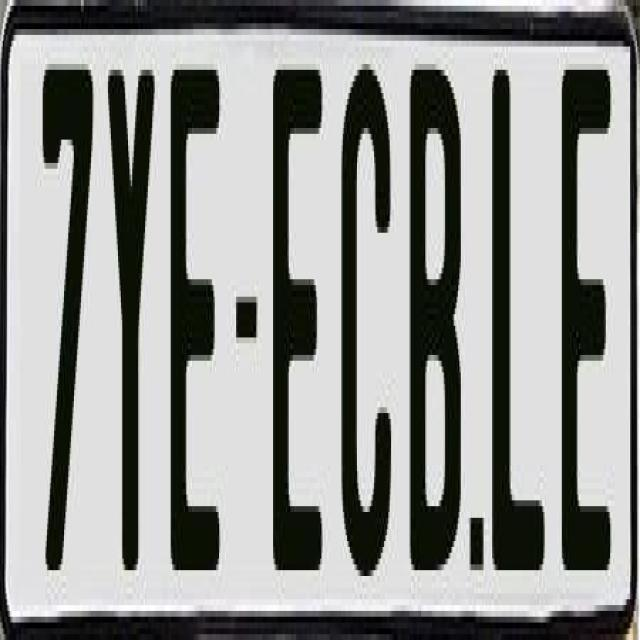7: (40, 64, 94, 594)
B: (405, 58, 458, 588)
C: (337, 64, 395, 576)
E: (270, 70, 326, 594), (170, 58, 223, 588), (558, 58, 608, 564)
L: (491, 70, 544, 594)
Y: (104, 52, 160, 558)
